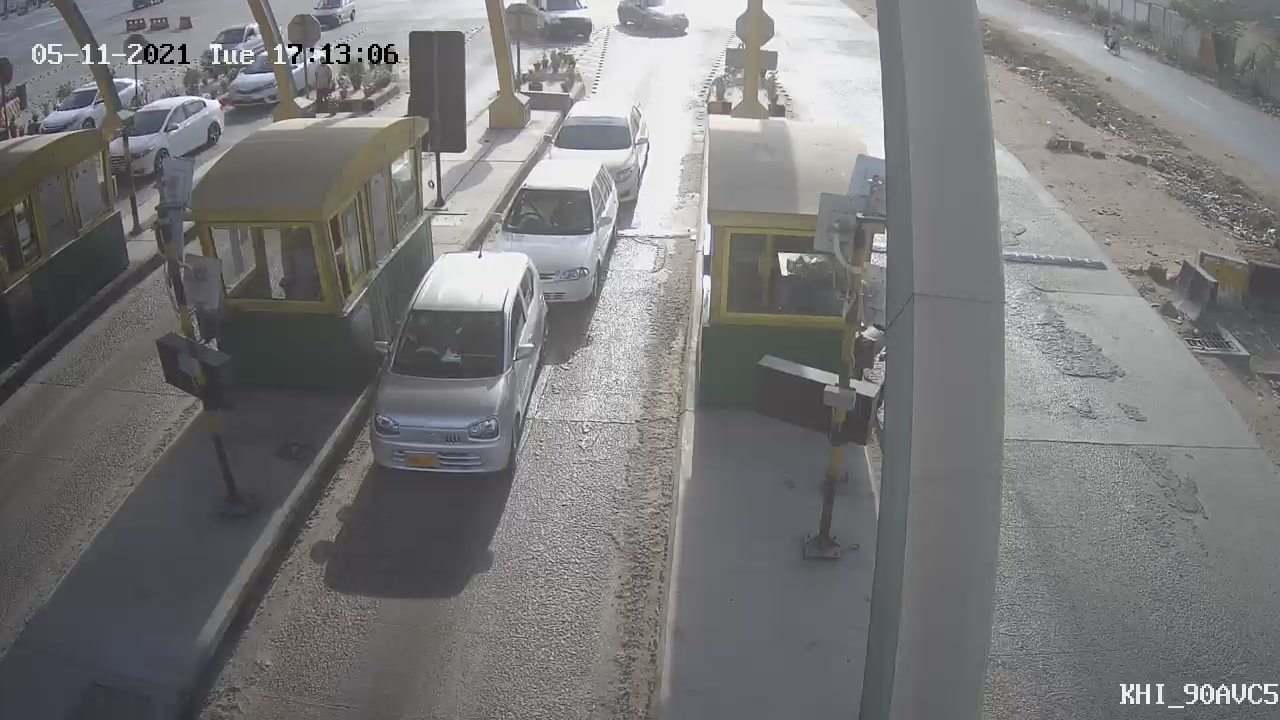F1: (346, 236, 572, 499), (468, 149, 635, 326)
